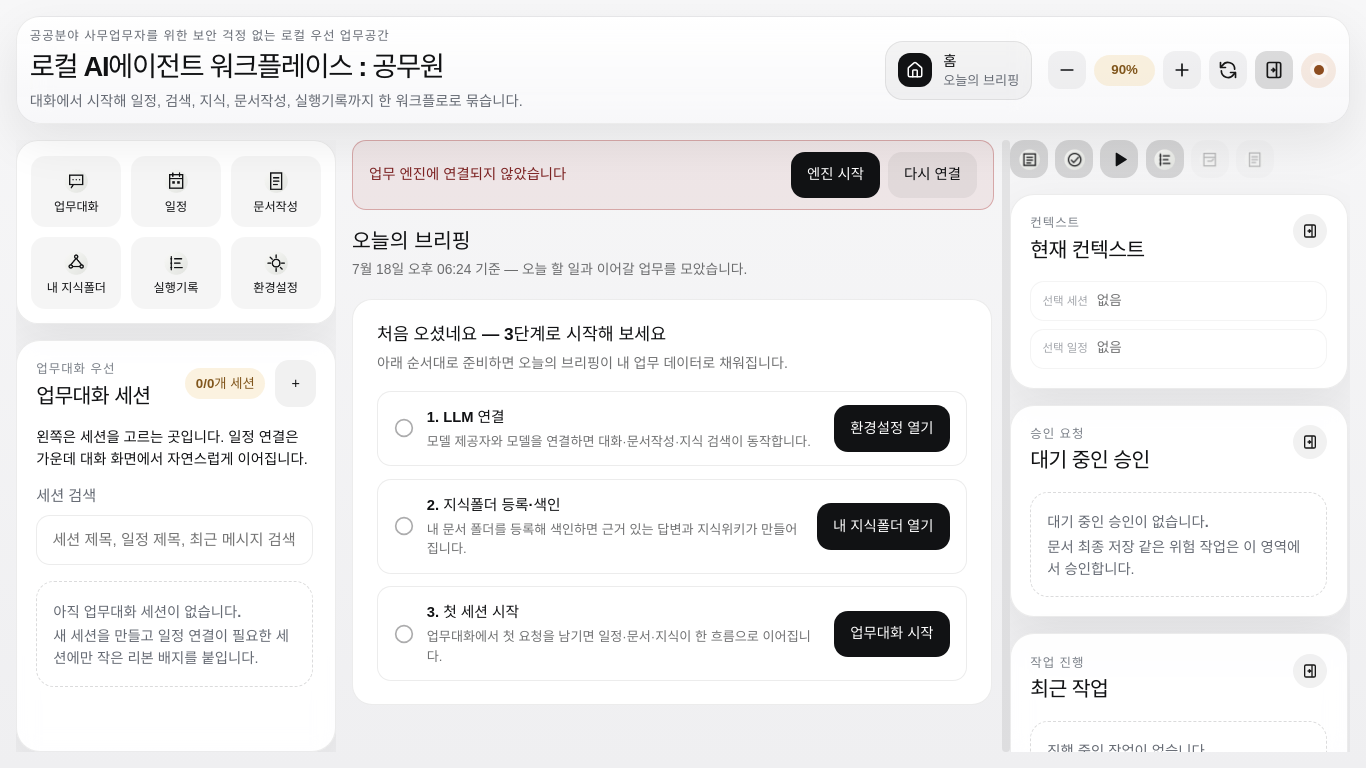
work session file links › merges file linking into a single toolbar button with a count badge (W5-3)
Click the button "업무대화".
click(76, 192)  # box [31,156,121,227]
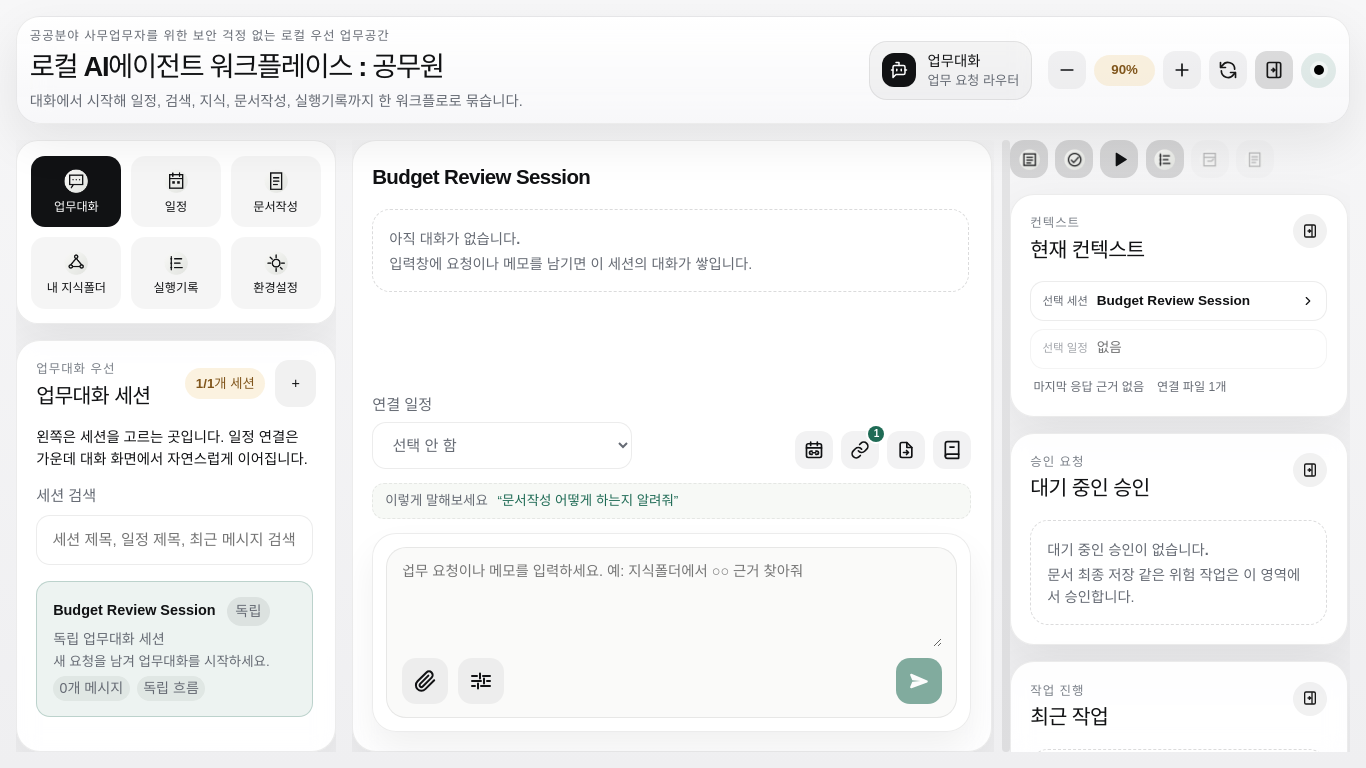
expect the text "C:/Docs/budget.xlsx" is not shown: met
expect the element with test id "chat-workspace" is shown: met, box [372,209,971,732]
expect the icon with test id "chat-file-links-badge" reads "1": met, box [874,428,879,439]
Click the button named "파일 연결".
click(860, 450)  # box [841,431,879,469]
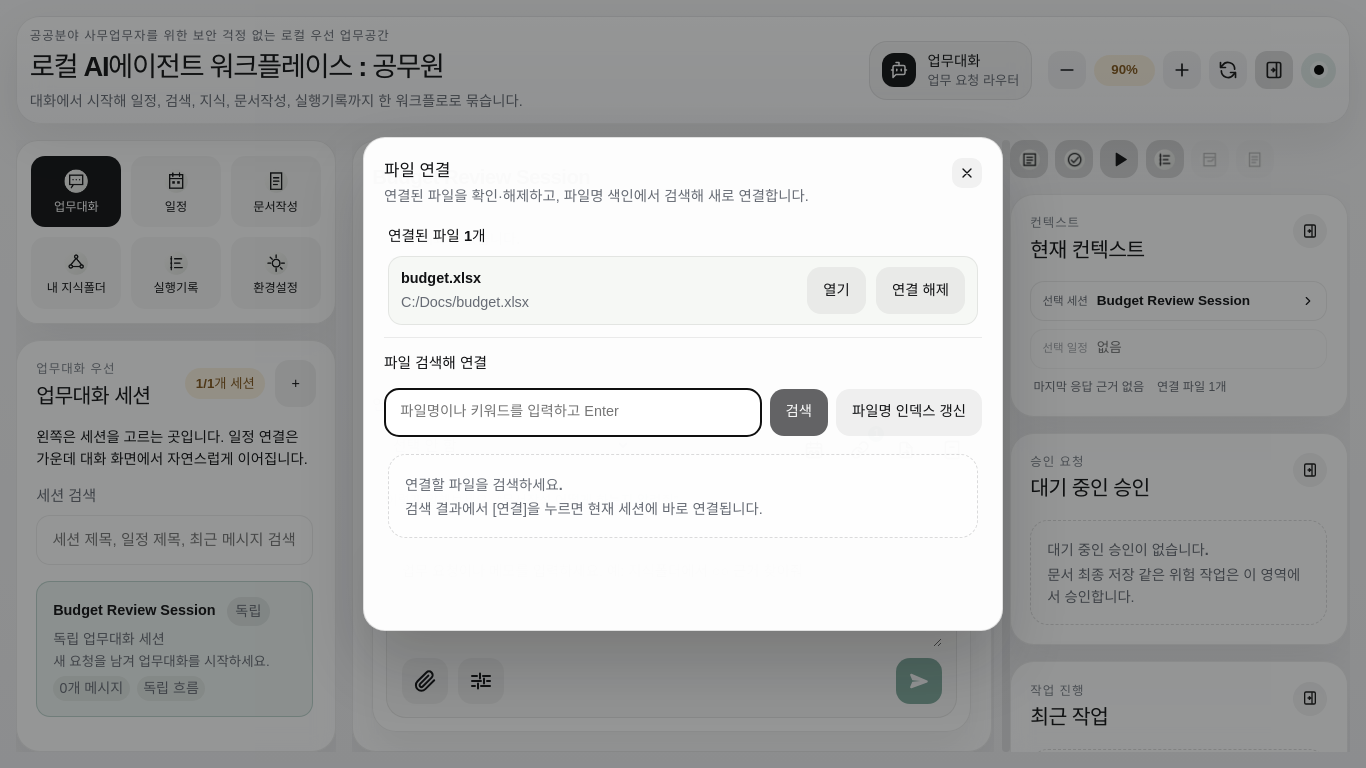
expect the text with test id "chat-file-link-count" reads "연결된 파일 1개": met, box [388,228,486,244]
expect the text "C:/Docs/budget.xlsx" is shown: met, box [401,292,529,314]
expect the button with aria-label "budget.xlsx 열기" is shown: met, box [807,267,866,314]
Press Escape
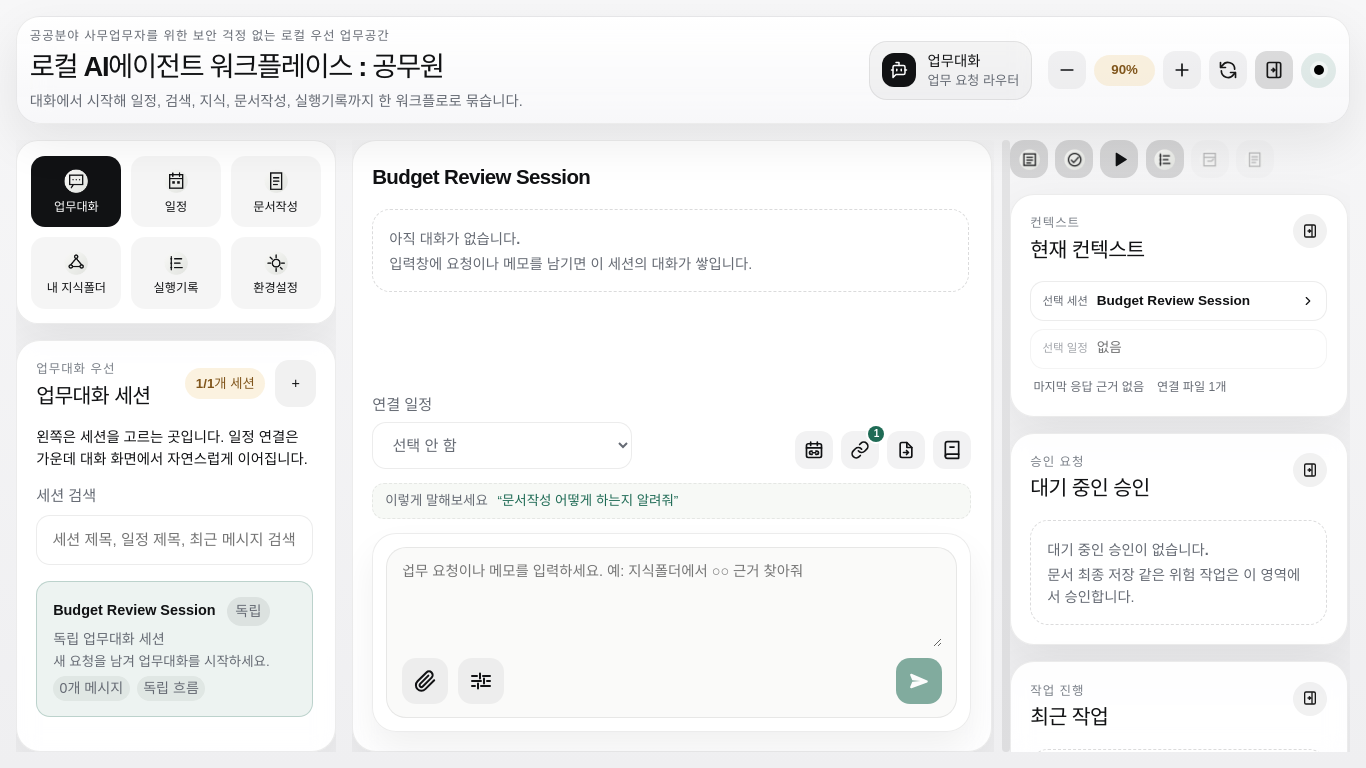
expect the dialog with test id "chat-file-link-modal" is gone: met
